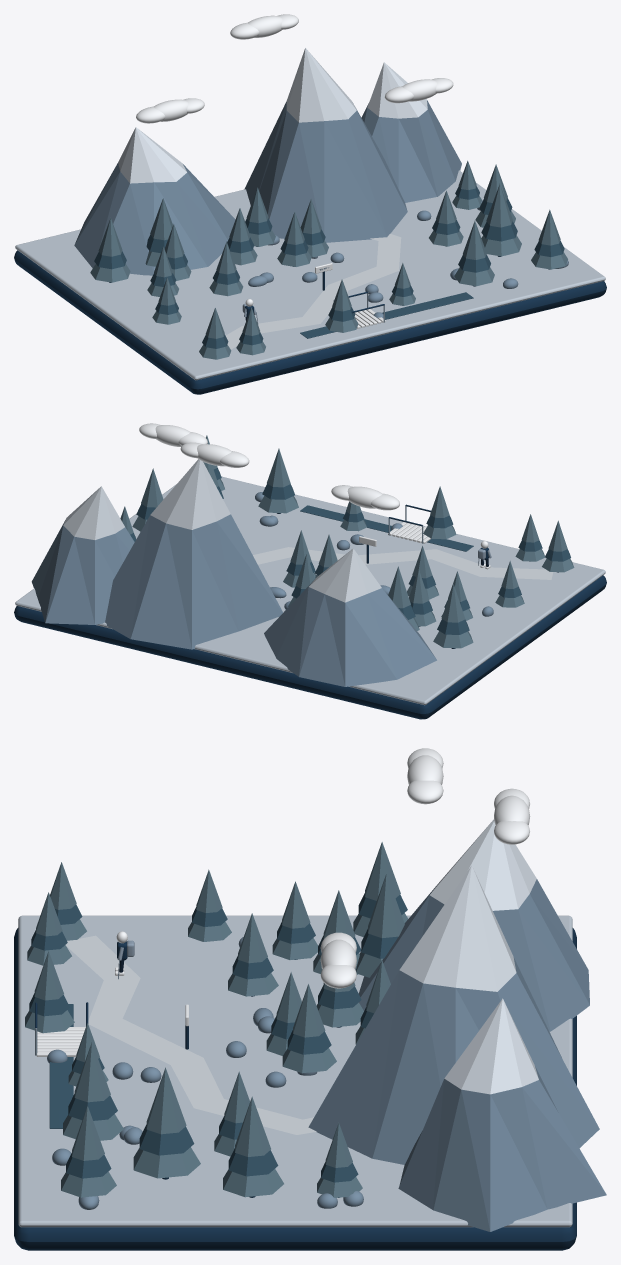
The model's file is forest.glb.
3 renders of one model, top to bottom at view 1: azimuth 30°, elevation 25°; view 2: azimuth 150°, elevation 25°; view 3: azimuth 270°, elevation 25°, orthographic. The views are drawn at different scales.
Parts seen in each view (by area): view 1: Forest floor, Main summit, Western ridge, Landscape base, Eastern ridge, Winding trail, Stream, Pine crown.029, Pine crown.027, Pine crown.059, Pine crown.050, Cloud puff.004 (+5 smaller); view 2: Forest floor, Main summit, Western ridge, Eastern ridge, Landscape base, Winding trail, Stream, Cloud puff.004, Cloud puff.001, Cloud puff.007, Pine crown.048, Pine crown.050 (+5 smaller); view 3: Forest floor, Main summit, Eastern ridge, Landscape base, Western ridge, Winding trail, Pine crown.029, Stream, Pine crown.027, Pine crown.059, Pine crown.032, Pine crown.050 (+33 smaller).
Part boxes in pixels (left/top/right/bottom): Forest floor: left=15, top=170, right=605, bottom=380; Main summit: left=244, top=48, right=407, bottom=242; Western ridge: left=74, top=127, right=235, bottom=275; Landscape base: left=14, top=250, right=606, bottom=394; Eastern ridge: left=361, top=62, right=461, bottom=202; Winding trail: left=225, top=233, right=401, bottom=349; Stream: left=300, top=292, right=473, bottom=338; Pine crown.029: left=486, top=184, right=512, bottom=227; Pine crown.027: left=481, top=235, right=521, bottom=256; Pine crown.059: left=150, top=198, right=172, bottom=240; Pine crown.050: left=463, top=221, right=486, bottom=259; Cloud puff.004: left=248, top=15, right=282, bottom=37; Forest floor: left=15, top=476, right=605, bottom=705; Main summit: left=105, top=459, right=283, bottom=649; Western ridge: left=264, top=548, right=436, bottom=686; Eastern ridge: left=31, top=486, right=134, bottom=624; Landscape base: left=14, top=575, right=606, bottom=719; Winding trail: left=253, top=547, right=553, bottom=579; Stream: left=300, top=505, right=473, bottom=551; Cloud puff.004: left=197, top=444, right=231, bottom=466; Cloud puff.001: left=347, top=486, right=382, bottom=508; Cloud puff.007: left=155, top=425, right=190, bottom=446; Pine crown.048: left=258, top=496, right=298, bottom=513; Pine crown.050: left=267, top=448, right=290, bottom=487; Forest floor: left=18, top=915, right=572, bottom=1227; Main summit: left=308, top=865, right=599, bottom=1164; Eastern ridge: left=398, top=998, right=606, bottom=1231; Landscape base: left=14, top=928, right=576, bottom=1250; Western ridge: left=358, top=819, right=589, bottom=1031; Winding trail: left=65, top=935, right=316, bottom=1134; Pine crown.029: left=146, top=1067, right=186, bottom=1134; Stream: left=49, top=1004, right=73, bottom=1128; Pine crown.027: left=133, top=1147, right=200, bottom=1178; Pine crown.059: left=368, top=873, right=404, bottom=937; Pine crown.032: left=235, top=1096, right=270, bottom=1156; Pine crown.050: left=74, top=1042, right=110, bottom=1102.
Size of the model in its own units: 17.29 by 8.03 by 13.69.
